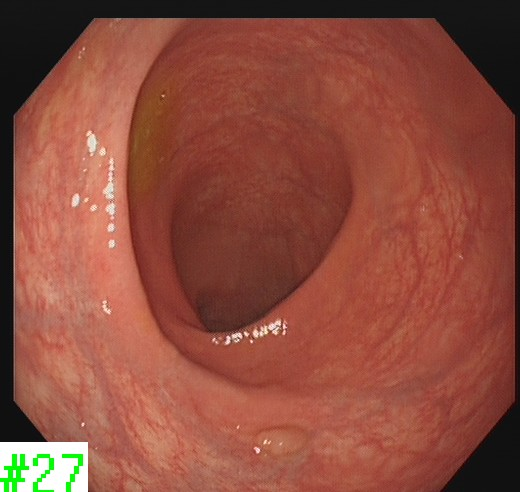adenoma: (250, 424, 307, 456)
